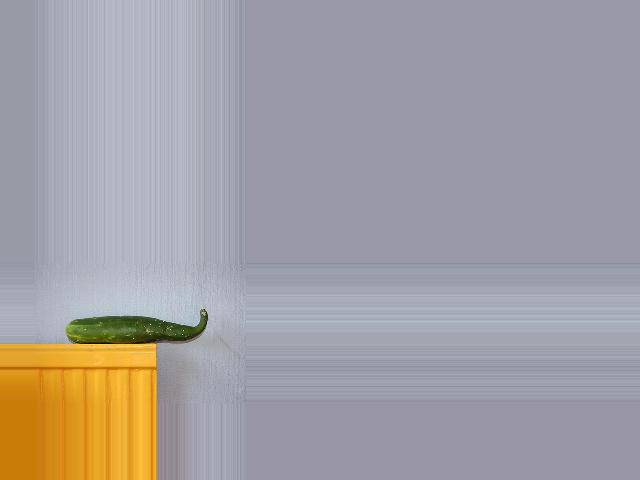cucumber: (66, 308, 208, 344)
